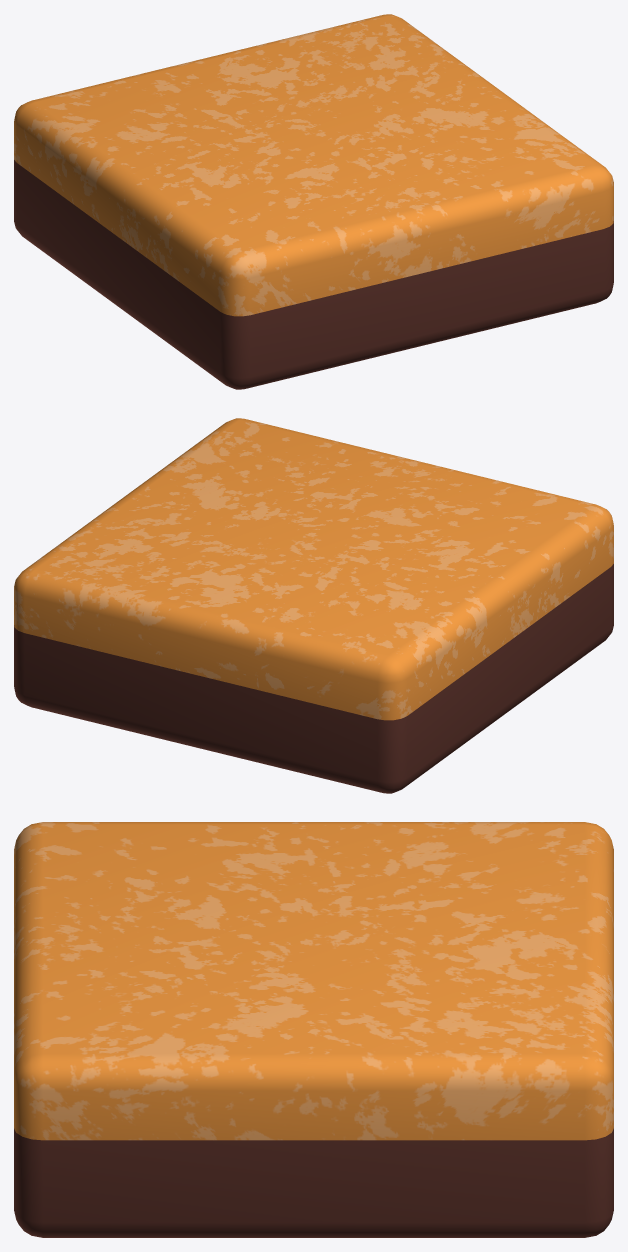
The model's file is Cube-Soil_001.fbx.
The picture shows the model from 3 angles, top to bottom: view 1: azimuth 30°, elevation 25°; view 2: azimuth 150°, elevation 25°; view 3: azimuth 270°, elevation 25°; orthographic projection. The views are drawn at different scales.
Visible parts, largest first — view 1: Cube-Soil.001; view 2: Cube-Soil.001; view 3: Cube-Soil.001.
Part boxes in pixels (<box>): Cube-Soil.001: <box>14,14,613,389</box>; Cube-Soil.001: <box>14,418,613,793</box>; Cube-Soil.001: <box>14,822,613,1237</box>.
Bounding box in the file's own units: 14.29 × 4.76 × 14.29.
